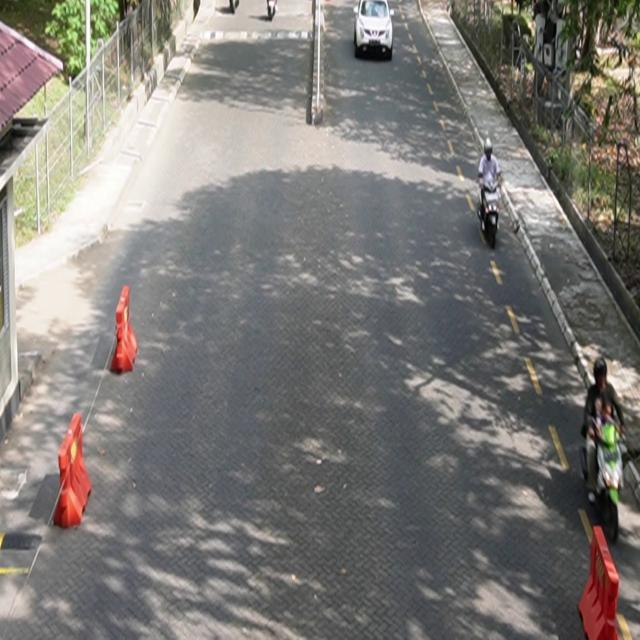car: (354, 1, 395, 61)
